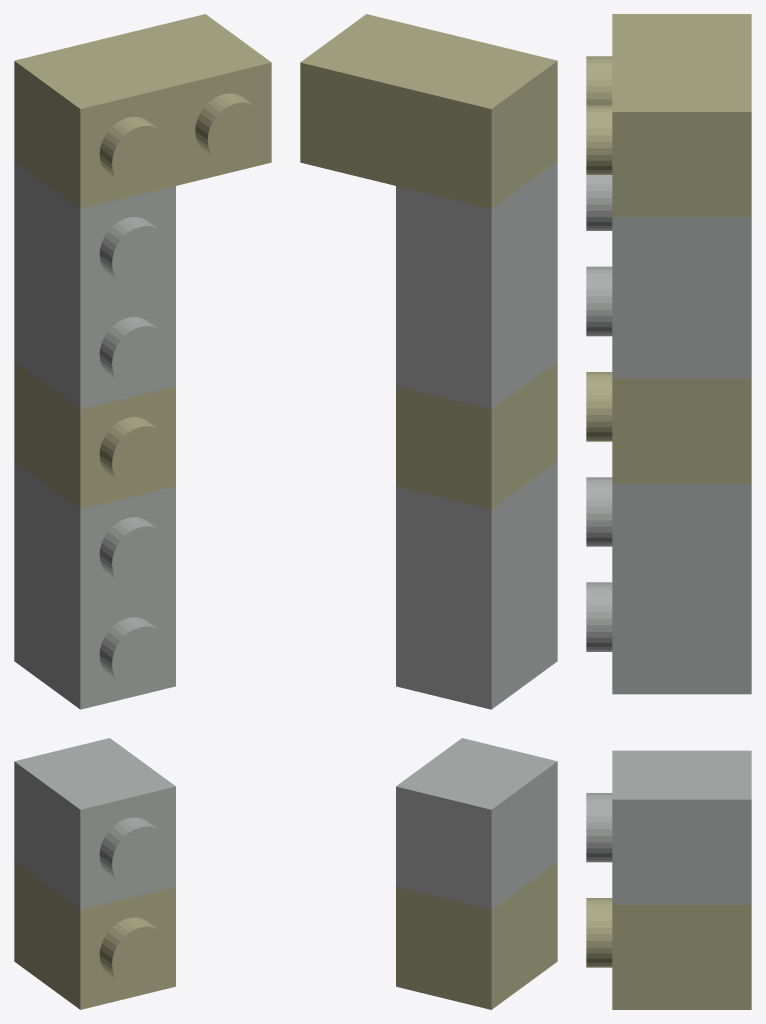
File: current.glb
3 views of the same model, side by side, from view 1: azimuth 30°, elevation 25°; view 2: azimuth 150°, elevation 25°; view 3: azimuth 270°, elevation 25° (orthographic). The views are drawn at different scales.
Visible parts, largest first — view 1: world; view 2: world; view 3: world.
Boxes of the visible parts, x1,y1,x2,y2 form: world: [14, 14, 271, 1009]; world: [300, 14, 557, 1009]; world: [586, 14, 751, 1009].
Size of the model in its own units: 16 by 72 by 11.4.
